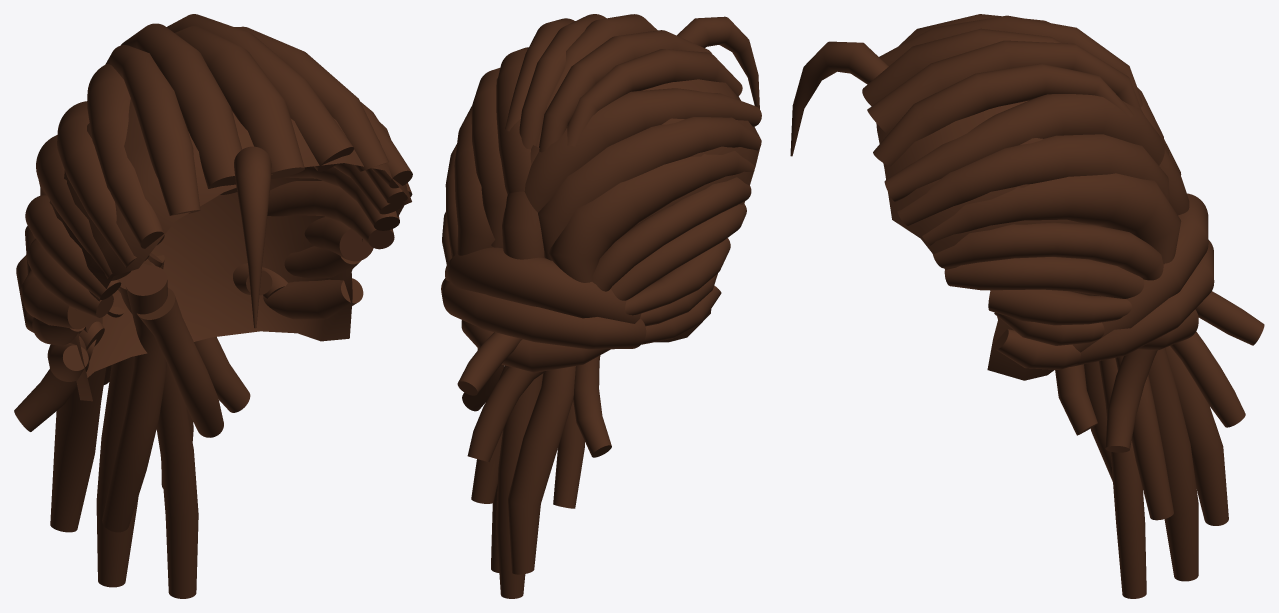
The picture shows the model from 3 angles, left to right: view 1: azimuth 30°, elevation 25°; view 2: azimuth 150°, elevation 25°; view 3: azimuth 270°, elevation 25°; orthographic projection. The views are drawn at different scales.
Visible parts, largest first — view 1: hairDreadsDownknot; view 2: hairDreadsDownknot; view 3: hairDreadsDownknot.
Part boxes in pixels (left/top/right/bottom): hairDreadsDownknot: left=14, top=14, right=412, bottom=598; hairDreadsDownknot: left=441, top=14, right=761, bottom=598; hairDreadsDownknot: left=790, top=14, right=1264, bottom=598.
Bounding box in the file's own units: 0.4925 × 0.895 × 0.703.
1 material, 1 textured.
